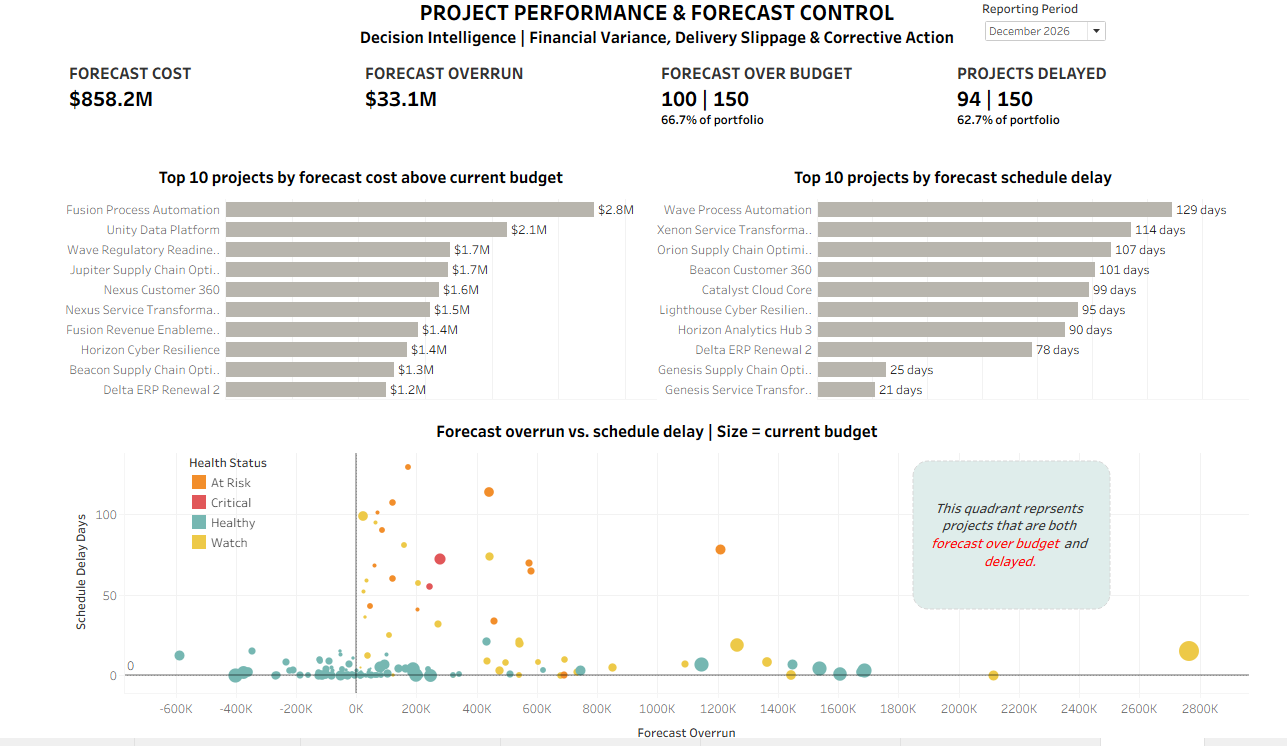

What the dashboard file says about the page in this screenshot:
{"tool":"tableau","page":{"name":"Dashboard 4","canvas":[1200,800],"ordinal":3},"visuals":[{"type":"text","box":[8,8,1024,83.1]},{"type":"parameter","param":"[Parameters].[Parameter 0647377457364992]","box":[868,23,127,44]},{"type":"worksheet","title":"KPI 14 — Forecast Cost","mark":"Automatic","box":[8,91.1,191,108.9]},{"type":"worksheet","title":"KPI 15 — Forecast Overrun","mark":"Automatic","box":[199,91.1,224,108.9]},{"type":"worksheet","title":"KPI 16 — Projects Forecast Over Budget","mark":"Automatic","box":[423,91.1,304.5,108.9]},{"type":"worksheet","title":"KPI 17 — Projects Delayed","mark":"Automatic","box":[727.5,91.1,304.5,108.9]},{"type":"worksheet","title":"VIZ 13 — Top 10 Forecast Overruns","mark":"Bar","rows":["project_name"],"cols":["Calculation_0647377800798220"],"box":[8,200,592,341]},{"type":"worksheet","title":"VIZ 14 — Top 10 Schedule Delays","mark":"Bar","rows":["project_name"],"cols":["schedule_delay_days"],"box":[600,200,592,341]},{"type":"worksheet","title":"VIZ 15 — Financial vs Delivery Drift Matrix","mark":"Circle","rows":["schedule_delay_days"],"cols":["Calculation_0647377694392323"],"box":[8,541,1184,251]},{"type":"legend","title":"VIZ 15 — Financial vs Delivery Drift Matrix","param":"[federated.0er2hqo1sj7gsy13t76lx1l9st0q].[none:health_status:nk]","box":[96,547,140,98]}]}

Visuals, with their boxes on the page's 1200x800 design canvas (x1, y1, x2, y2). These are canvas units, not pixel positions in the 1287x746 screenshot, which may show the page scaled, cropped or inside an application window:
text: select_region(8, 8, 1032, 91)
parameter: select_region(868, 23, 995, 67)
"KPI 14 — Forecast Cost" worksheet: select_region(8, 91, 199, 200)
"KPI 15 — Forecast Overrun" worksheet: select_region(199, 91, 423, 200)
"KPI 16 — Projects Forecast Over Budget" worksheet: select_region(423, 91, 728, 200)
"KPI 17 — Projects Delayed" worksheet: select_region(728, 91, 1032, 200)
"VIZ 13 — Top 10 Forecast Overruns" worksheet (Bar marks): select_region(8, 200, 600, 541)
"VIZ 14 — Top 10 Schedule Delays" worksheet (Bar marks): select_region(600, 200, 1192, 541)
"VIZ 15 — Financial vs Delivery Drift Matrix" worksheet (Circle marks): select_region(8, 541, 1192, 792)
"VIZ 15 — Financial vs Delivery Drift Matrix" legend: select_region(96, 547, 236, 645)
